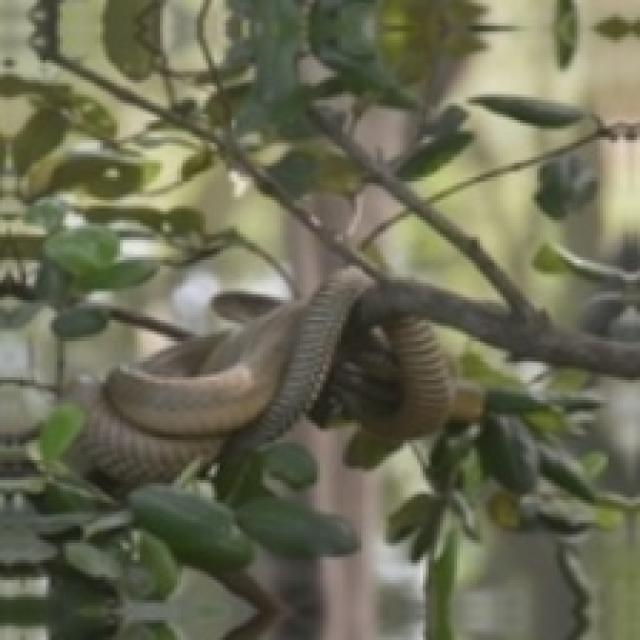king cobra: (71, 269, 366, 483), (349, 317, 451, 437)
